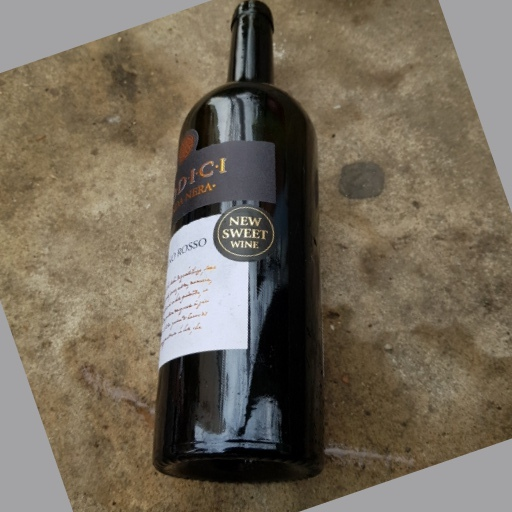Glass_2: (152, 1, 328, 480)
